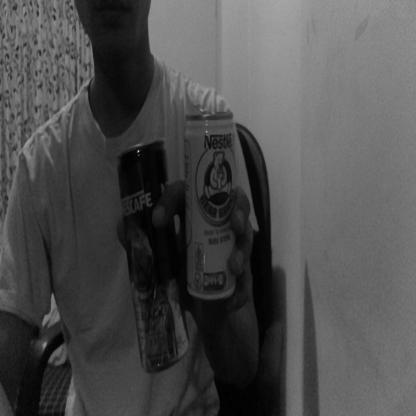alumunium_can: (116, 139, 192, 373), (184, 100, 236, 302)
